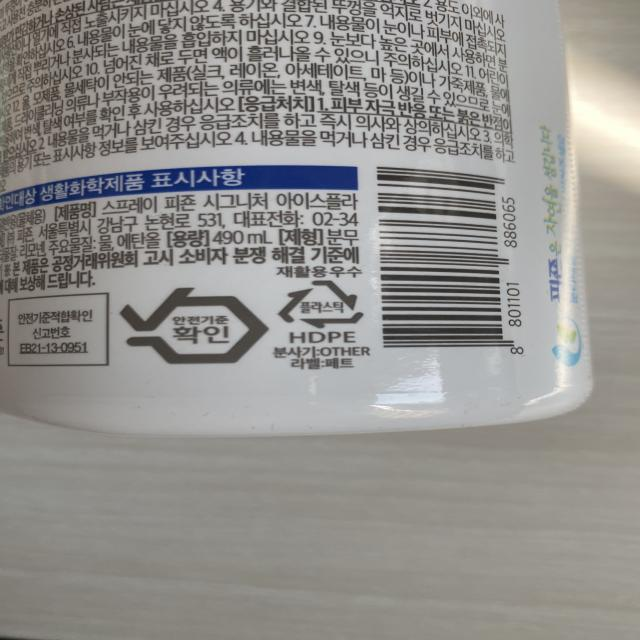Plastic: (275, 279, 368, 329)
